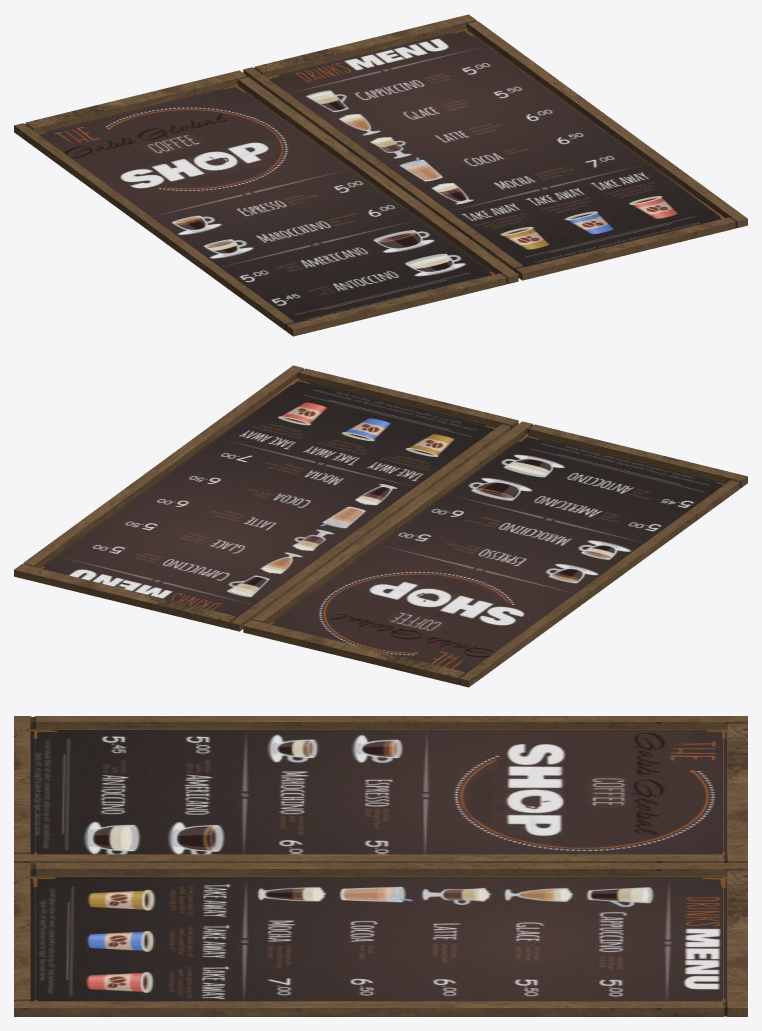
Rendered from GG_Level#1_Asset_ChalkboardMenus_001.fbx.
3 views of the same model, one above another, from view 1: azimuth 30°, elevation 25°; view 2: azimuth 150°, elevation 25°; view 3: azimuth 270°, elevation 25° (orthographic). The views are drawn at different scales.
Visible parts, largest first — view 1: polySurface7.001, polySurface8.001, polySurface8, polySurface7; view 2: polySurface7.001, polySurface8.001, polySurface8, polySurface7; view 3: polySurface7.001, polySurface8.001, polySurface7, polySurface8.
Part boxes in pixels (box(x1,y1,x2,y2)): polySurface7.001: box(266, 29, 724, 266); polySurface8.001: box(37, 85, 495, 322); polySurface8: box(14, 70, 518, 336); polySurface7: box(243, 14, 747, 280); polySurface7.001: box(39, 379, 496, 617); polySurface8.001: box(268, 435, 725, 673); polySurface8: box(243, 421, 747, 687); polySurface7: box(14, 365, 518, 631); polySurface7.001: box(30, 877, 726, 1002); polySurface8.001: box(30, 730, 726, 855); polySurface7: box(14, 863, 747, 1016); polySurface8: box(14, 716, 747, 863).
Bounding box in the file's own units: 319 × 4.68 × 340.
Materials: 3 (3 with a texture image).
